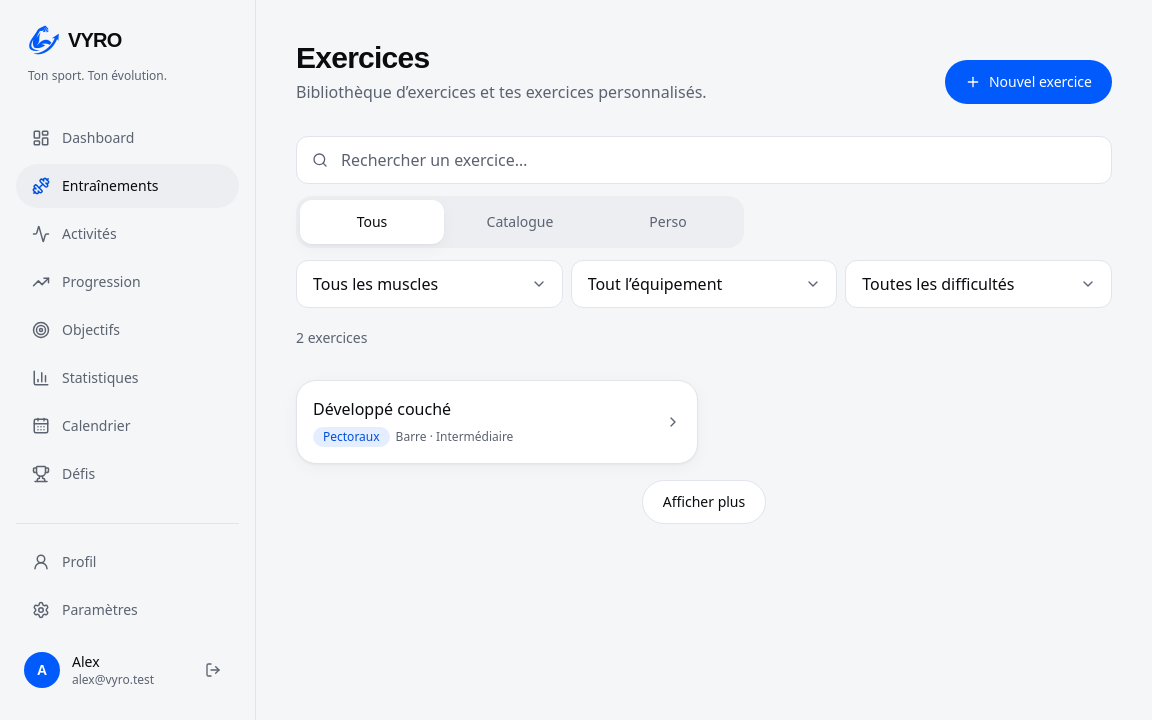
Test: Exercise library › loads more results page by page
expect the link "Développé couché Pectoraux Barre · Intermédiaire" is shown: met, box x1=296 y1=380 x2=698 y2=464
Click the button "Afficher plus" at [704, 502], box x1=642 y1=480 x2=766 y2=524
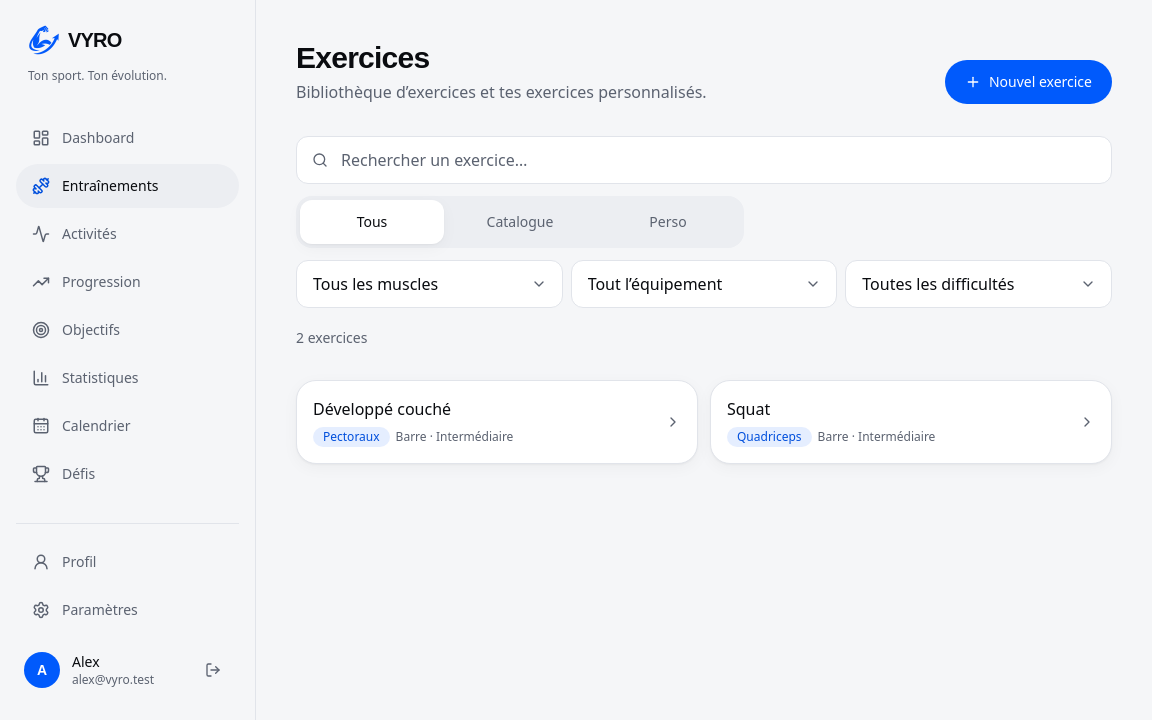
expect the link "Squat Quadriceps Barre · Intermédiaire" is shown: met, box x1=710 y1=380 x2=1112 y2=464
expect the button "Afficher plus" is gone: met
